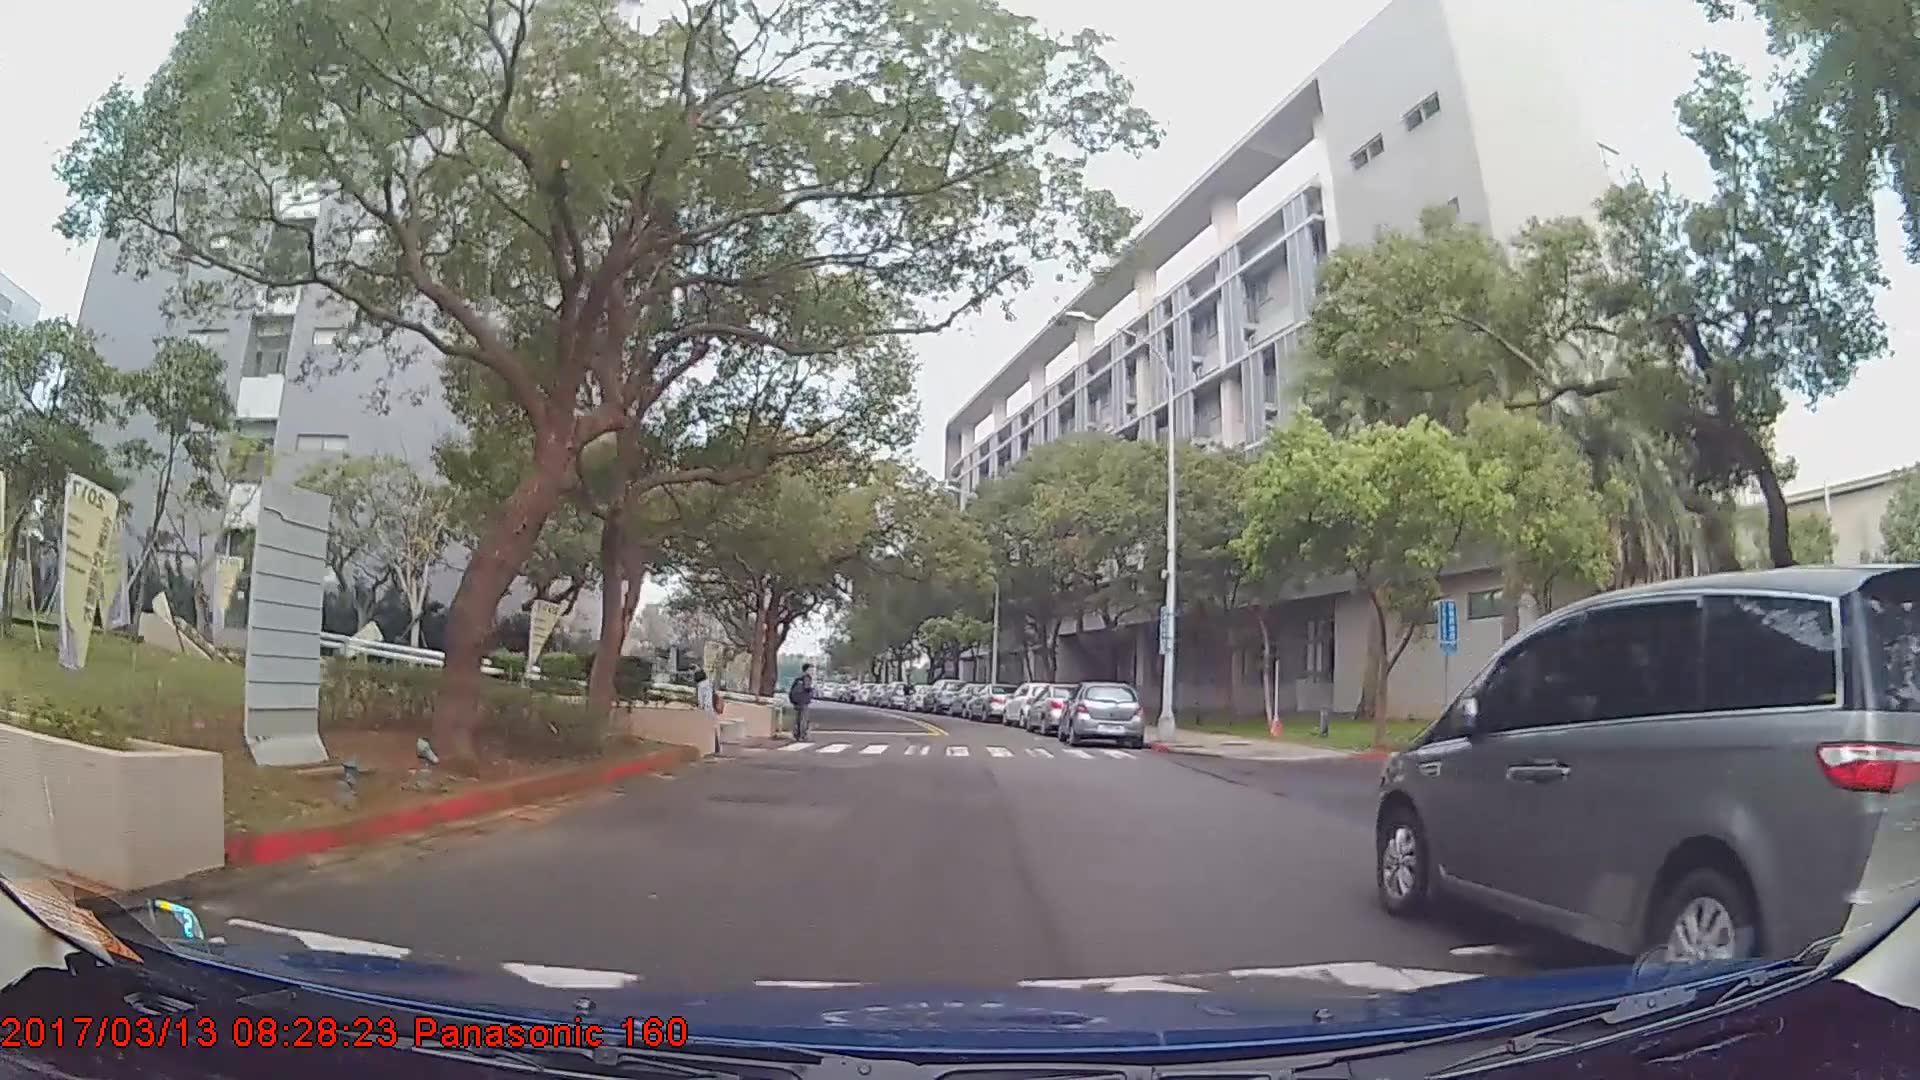pedestrian: (688, 671, 726, 753), (789, 661, 818, 746)
vehicle: (1374, 563, 1920, 987), (1061, 679, 1143, 747), (1020, 679, 1098, 732), (998, 677, 1064, 729), (966, 682, 1014, 719), (921, 677, 964, 713)
